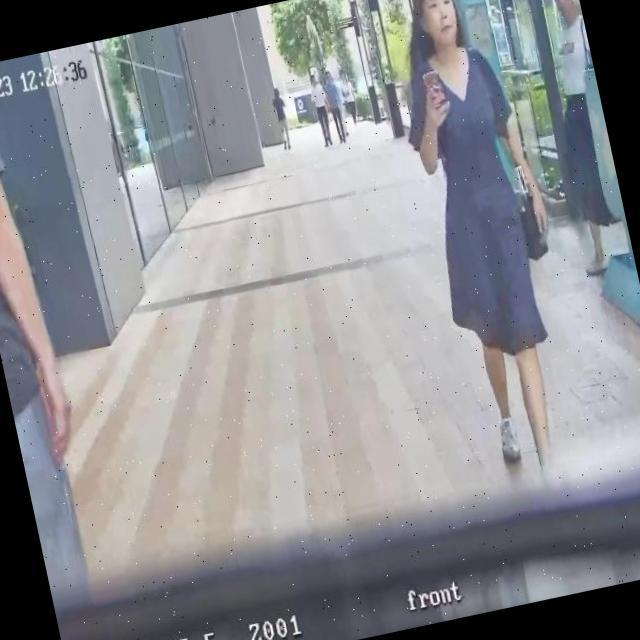person: (373, 0, 599, 487), (0, 61, 110, 606), (521, 0, 636, 280), (319, 68, 350, 146), (307, 72, 337, 148), (269, 86, 294, 152), (338, 71, 360, 125)
